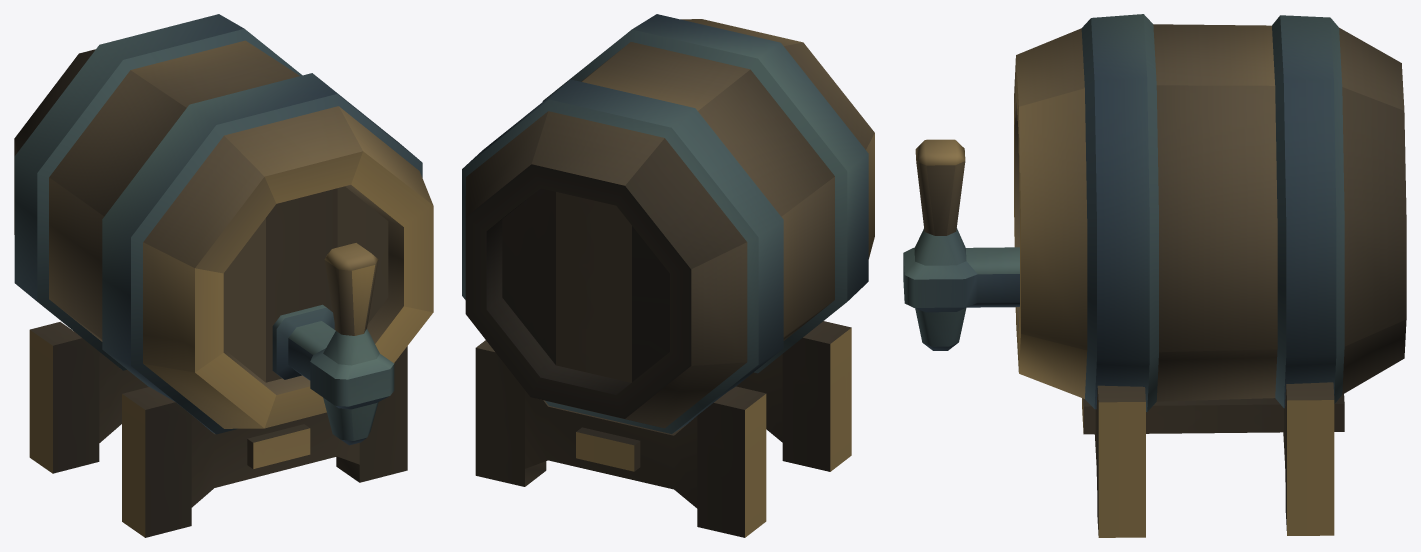
File: kask_tap_stand.fbx
The picture shows the model from 3 angles, left to right: view 1: azimuth 30°, elevation 25°; view 2: azimuth 150°, elevation 25°; view 3: azimuth 270°, elevation 25°; orthographic projection. The views are drawn at different scales.
Parts seen in each view (by area): view 1: kask_tap_stand; view 2: kask_tap_stand; view 3: kask_tap_stand.
Part boxes in pixels (bbox=[...]): kask_tap_stand: bbox=[14, 14, 433, 537]; kask_tap_stand: bbox=[462, 14, 874, 537]; kask_tap_stand: bbox=[903, 14, 1406, 537].
Size of the model in its own units: 91.03 by 115 by 124.
